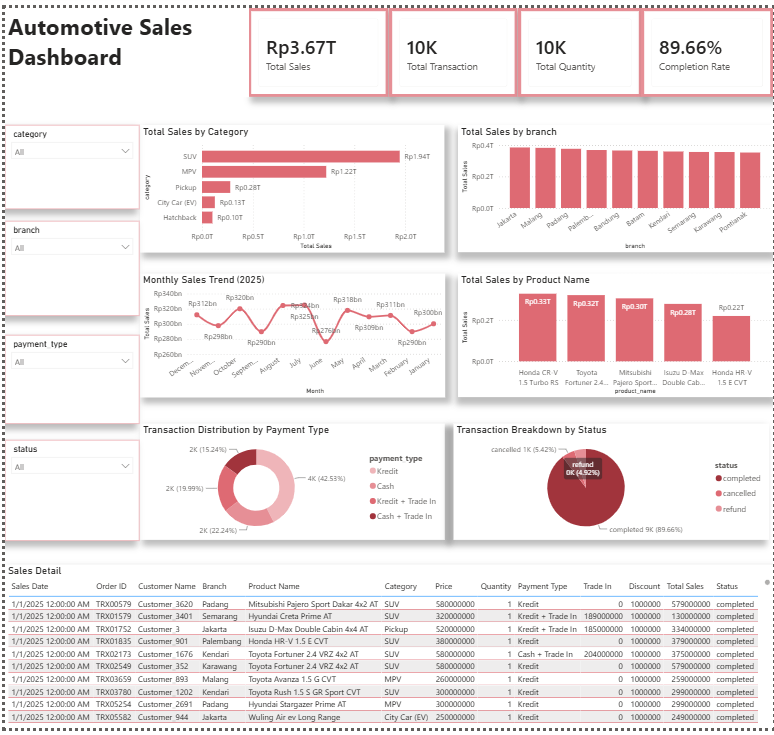

This screenshot's page, from the dashboard's own definition file:
{"tool":"powerbi","page":{"name":"Page 1","canvas":[1280,1200],"ordinal":0},"visuals":[{"type":"cardVisual","fields":{"Data":["Sheet1.Total Sales"]},"box":[406,0,234,148],"z":0},{"type":"cardVisual","fields":{"Data":["Sheet1.Total Transaction"]},"box":[640,0,214,148],"z":1000},{"type":"cardVisual","fields":{"Data":["Sheet1.Total Quantity"]},"box":[854,0,206,148],"z":2000},{"type":"cardVisual","fields":{"Data":["Sheet1.Completion Rate"]},"box":[1060,0,220,148],"z":3000},{"type":"clusteredBarChart","title":"Total Sales by Category","fields":{"Category":["Sheet1.category"],"Y":["Sheet1.Total Sales"]},"box":[225,195,507.5,212.5],"z":4000},{"type":"clusteredColumnChart","fields":{"Category":["Sheet1.branch"],"Y":["Sheet1.Total Sales"]},"box":[754,196,526,212],"z":5000},{"type":"clusteredColumnChart","title":"Total Sales by Product Name","fields":{"Category":["Sheet1.product_name"],"Y":["Sheet1.Total Sales"]},"box":[754,442,526,206],"z":6000},{"type":"lineChart","title":"Monthly Sales Trend (2025)","fields":{"Category":["Sheet1.sales_date.Variation.Date Hierarchy.Month"],"Y":["Sheet1.Total Sales"]},"box":[225,441.7,508.3,206.7],"z":7000},{"type":"donutChart","title":"Transaction Distribution by Payment Type","fields":{"Category":["Sheet1.payment_type"],"Y":["Sheet1.Total Transaction"]},"box":[224,692,508,194],"z":8000},{"type":"pieChart","title":"Transaction Breakdown by Status","fields":{"Category":["Sheet1.status"],"Y":["Sheet1.Total Transaction"]},"box":[748,692,526,194],"z":9000},{"type":"slicer","fields":{"Values":["Sheet1.category"]},"box":[0,196,224,140],"z":10000},{"type":"slicer","fields":{"Values":["Sheet1.branch"]},"box":[0,356,224,158],"z":11000},{"type":"textbox","box":[0,0,406.7,148.3],"z":12000},{"type":"slicer","fields":{"Values":["Sheet1.payment_type"]},"box":[0,544,224,148],"z":13000},{"type":"slicer","fields":{"Values":["Sheet1.status"]},"box":[0,720,224,168],"z":14000},{"type":"tableEx","title":"Sales Detail","fields":{"Values":["Sales Detail Table.Sales Date","Sales Detail Table.Order ID","Sales Detail Table.Customer Name","Sales Detail Table.Branch","Sales Detail Table.Product Name","Sales Detail Table.Category","Sales Detail Table.Price","Sales Detail Table.Quantity","Sales Detail Table.Payment Type","Sales Detail Table.Trade In","Sales Detail Table.Discount","Sales Detail Table.Total Sales"]},"box":[0,928,1280,274],"z":15000}]}

Visuals, with their boxes in screenshot pixels (x1, y1, x2, y2), scaled from the page's 1280x1200 canvas onto the 774x735 screenshot:
cardVisual - Sheet1.Total Sales: locate(246, 0, 387, 91)
cardVisual - Sheet1.Total Transaction: locate(387, 0, 516, 91)
cardVisual - Sheet1.Total Quantity: locate(516, 0, 641, 91)
cardVisual - Sheet1.Completion Rate: locate(641, 0, 773, 91)
"Total Sales by Category" clusteredBarChart: locate(136, 119, 443, 250)
clusteredColumnChart - Sheet1.branch x Sheet1.Total Sales: locate(456, 120, 773, 250)
"Total Sales by Product Name" clusteredColumnChart: locate(456, 271, 773, 397)
"Monthly Sales Trend (2025)" lineChart: locate(136, 271, 443, 397)
"Transaction Distribution by Payment Type" donutChart: locate(135, 424, 443, 543)
"Transaction Breakdown by Status" pieChart: locate(452, 424, 770, 543)
slicer - Sheet1.category: locate(0, 120, 135, 206)
slicer - Sheet1.branch: locate(0, 218, 135, 315)
textbox: locate(0, 0, 246, 91)
slicer - Sheet1.payment_type: locate(0, 333, 135, 424)
slicer - Sheet1.status: locate(0, 441, 135, 544)
"Sales Detail" tableEx: locate(0, 568, 773, 734)
